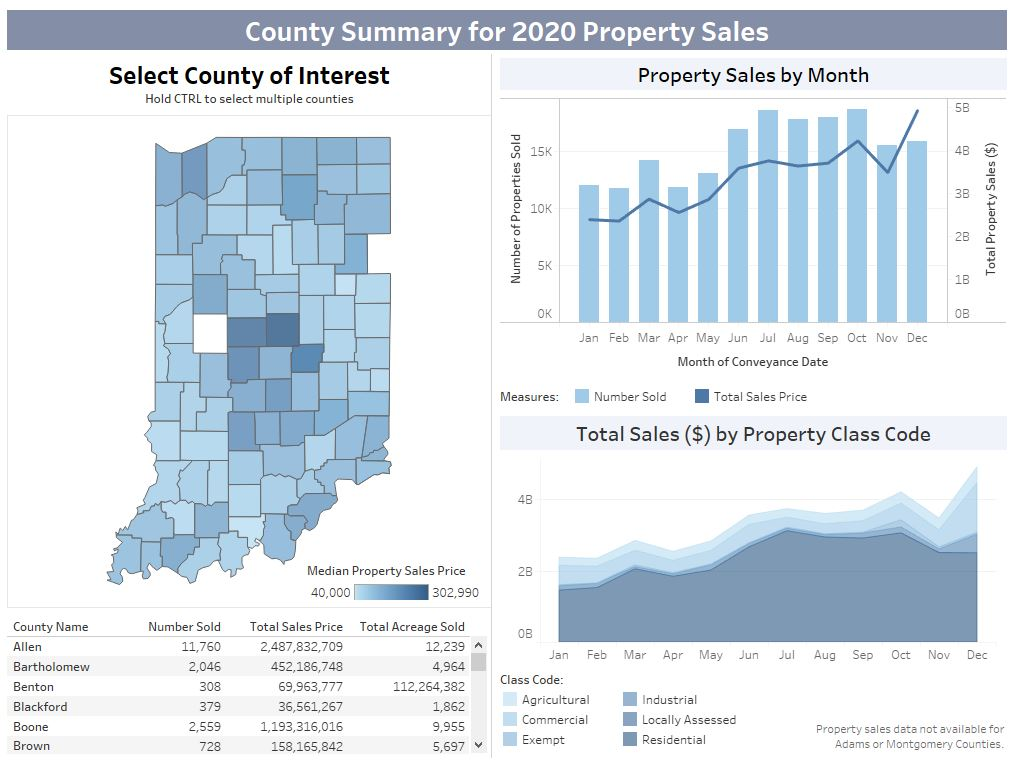

The page's visual inventory and layout, read from the dashboard file:
{"tool":"tableau","page":{"name":"County Summary","canvas":[1024,768],"ordinal":0},"visuals":[{"type":"worksheet","box":[0,0,1024,768]},{"type":"worksheet","box":[8,8,1008,48]},{"type":"worksheet","param":"horz","box":[8,56,1008,704]},{"type":"worksheet","box":[8,56,1008,704]},{"type":"worksheet","box":[8,56,493,57]},{"type":"worksheet","box":[496,56,1,704]},{"type":"worksheet","box":[501,56,515,40]},{"type":"worksheet","title":"Property Sales by Month","mark":"Automatic","rows":["Property_Sales_Price","Property_Sales_Price"],"cols":["Conveyance_Date"],"box":[501,96,515,288]},{"type":"worksheet","title":"Sale Price by County","mark":"Multipolygon","box":[8,113,493,501]},{"type":"worksheet","title":"Property Sales by Month","mark":"Automatic","rows":["Property_Sales_Price","Property_Sales_Price"],"cols":["Conveyance_Date"],"param":"[federated.0j05l9411h9pe21atxlfg0024qb3].[:Measure Names]","box":[501,384,515,30]},{"type":"worksheet","box":[501,414,515,42]},{"type":"worksheet","title":"Property Class","mark":"Area","rows":["Property_Sales_Price"],"cols":["Conveyance_Date"],"box":[501,456,515,213]},{"type":"worksheet","title":"Sale Price by County","mark":"Multipolygon","param":"[federated.0j05l9411h9pe21atxlfg0024qb3].[med:Property_Sales_Price:qk]","box":[312,548,177,54]},{"type":"worksheet","title":"Table","mark":"Automatic","rows":["County_Name"],"box":[8,614,493,146]},{"type":"worksheet","title":"Property Class","mark":"Area","rows":["Property_Sales_Price"],"cols":["Conveyance_Date"],"param":"[federated.0j05l9411h9pe21atxlfg0024qb3].[none:Class_Code_Translated:nk]","box":[501,669,303,91]},{"type":"worksheet","box":[804,669,212,91]}]}

Visuals, with their boxes in screenshot pixels (x1, y1, x2, y2), scaled from the page's 1024x768 canvas onto the 1013x763 screenshot:
worksheet: (left=0, top=0, right=1012, bottom=762)
worksheet: (left=8, top=8, right=1005, bottom=56)
worksheet: (left=8, top=56, right=1005, bottom=755)
worksheet: (left=8, top=56, right=1005, bottom=755)
worksheet: (left=8, top=56, right=496, bottom=112)
worksheet: (left=491, top=56, right=492, bottom=755)
worksheet: (left=496, top=56, right=1005, bottom=95)
"Property Sales by Month" worksheet: (left=496, top=95, right=1005, bottom=382)
"Sale Price by County" worksheet (Multipolygon marks): (left=8, top=112, right=496, bottom=610)
"Property Sales by Month" worksheet: (left=496, top=382, right=1005, bottom=411)
worksheet: (left=496, top=411, right=1005, bottom=453)
"Property Class" worksheet (Area marks): (left=496, top=453, right=1005, bottom=665)
"Sale Price by County" worksheet (Multipolygon marks): (left=309, top=544, right=484, bottom=598)
"Table" worksheet: (left=8, top=610, right=496, bottom=755)
"Property Class" worksheet (Area marks): (left=496, top=665, right=795, bottom=755)
worksheet: (left=795, top=665, right=1005, bottom=755)
